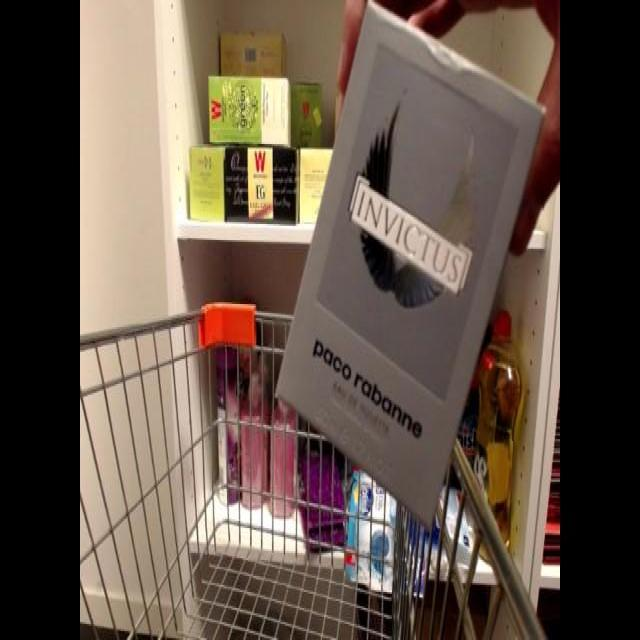Paco Rabanne: (270, 6, 550, 529)
